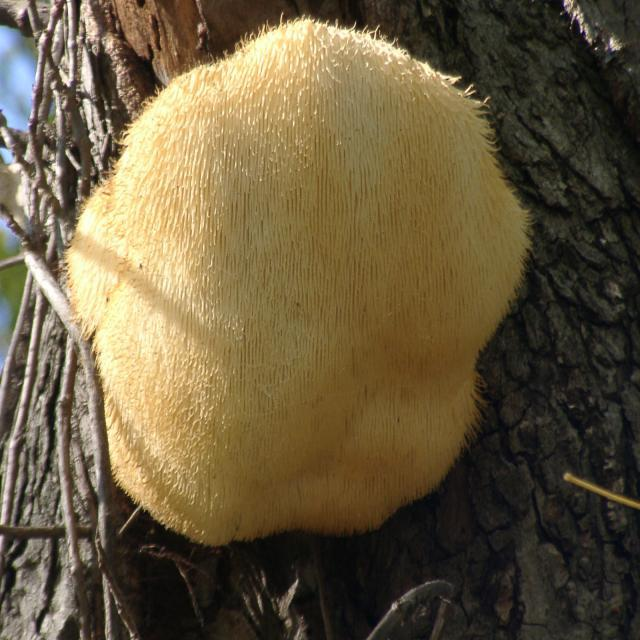Hericium erinaceus: (63, 21, 526, 546)
